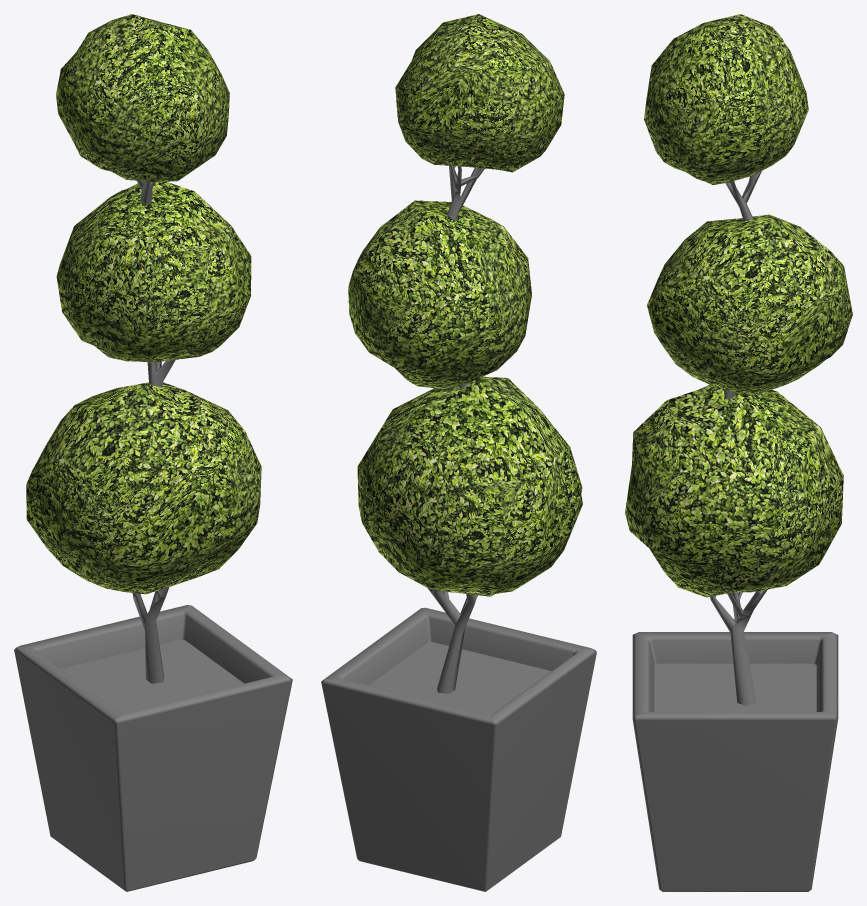
Rendered from bush.fbx.
3 views of the same model, side by side, from view 1: azimuth 30°, elevation 25°; view 2: azimuth 150°, elevation 25°; view 3: azimuth 270°, elevation 25° (orthographic).
Visible parts, largest first — view 1: topiary_matB, pot, dirt, branch_01; view 2: topiary_matB, pot, dirt, branch_01, branch_03; view 3: topiary_matB, pot, dirt, branch_01, branch_03.
Part boxes in pixels (x1=…): topiary_matB: x1=26, y1=14, x2=261, y2=594; pot: x1=14, y1=605, x2=292, y2=891; dirt: x1=60, y1=639, x2=243, y2=713; branch_01: x1=132, y1=587, x2=169, y2=683; topiary_matB: x1=348, y1=14, x2=582, y2=596; pot: x1=321, y1=607, x2=596, y2=891; dirt: x1=369, y1=642, x2=551, y2=714; branch_01: x1=427, y1=588, x2=477, y2=693; branch_03: x1=447, y1=165, x2=484, y2=219; topiary_matB: x1=625, y1=14, x2=852, y2=597; pot: x1=632, y1=632, x2=838, y2=891; dirt: x1=654, y1=663, x2=816, y2=711; branch_01: x1=710, y1=589, x2=767, y2=705; branch_03: x1=725, y1=171, x2=761, y2=220.
Bounding box in the file's own units: 44.62 × 175 × 43.55.
